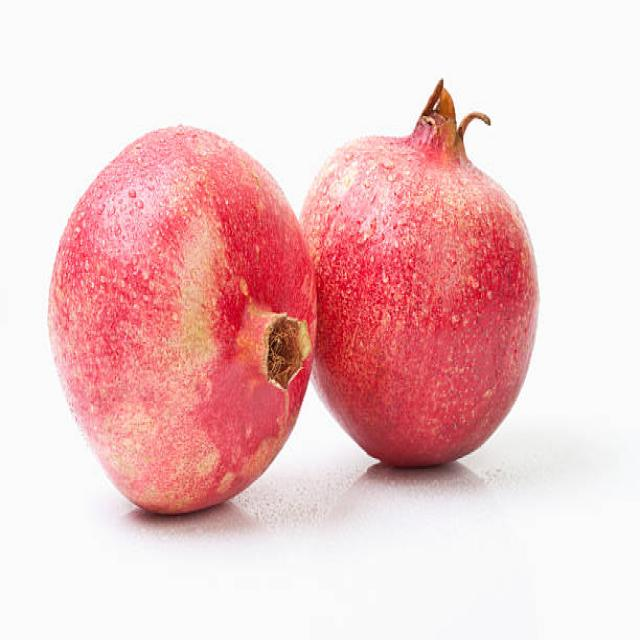Ripe: (39, 116, 318, 524), (304, 77, 542, 470)
